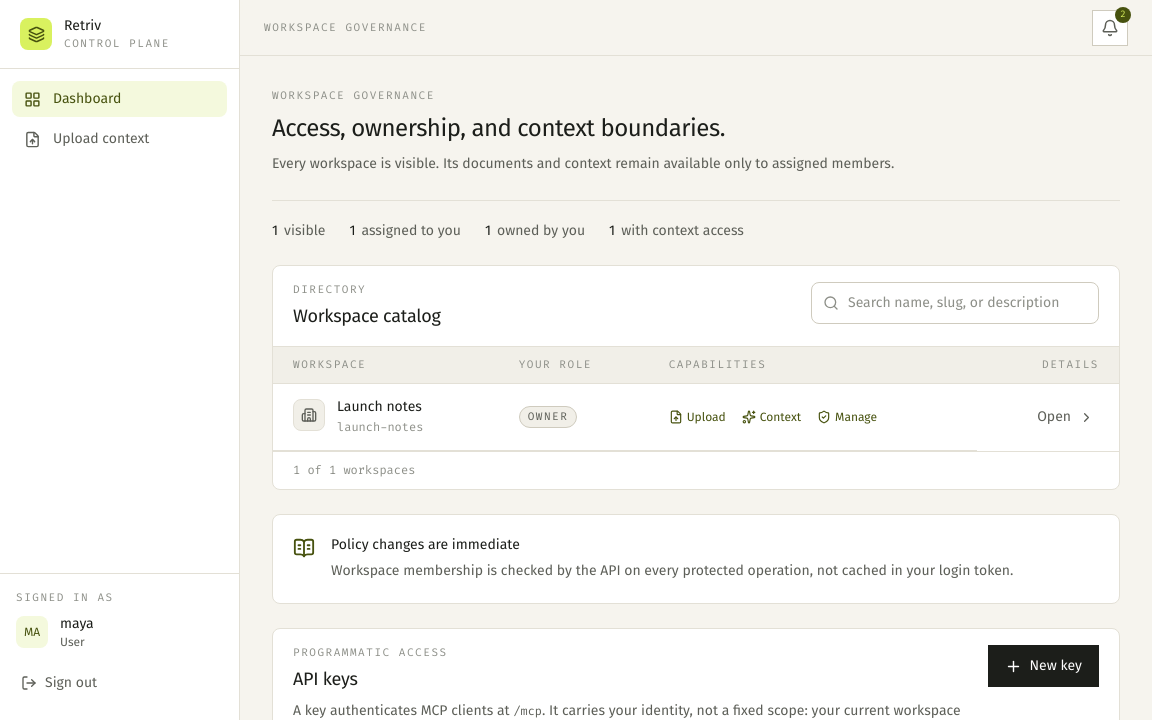
Scenario: dashboard application › shows the active process and recent workspace activity in notifications
expect the heading "Access, ownership, and context boundaries." is shown: met, box [272,114,725,142]
Click the button named "Open processing notifications, 2 recent runs". click: point(1110, 28)
box: [1092,10,1128,46]
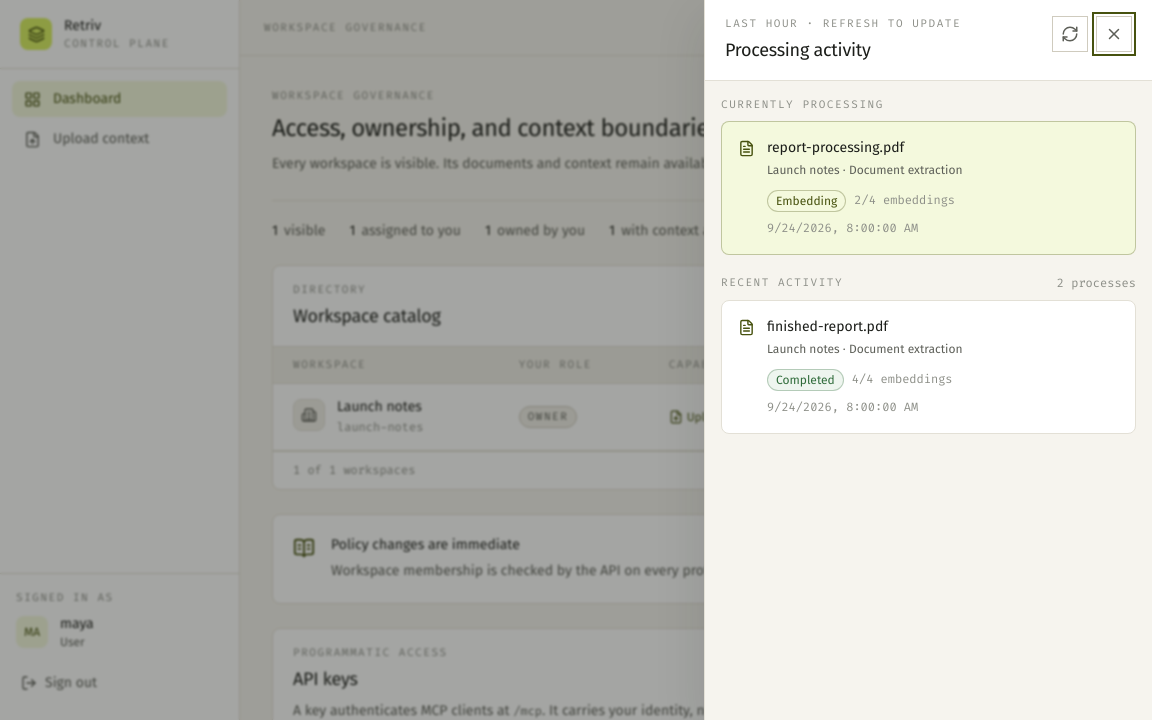
expect the dialog named "Processing notifications" is shown: met, box [704,0,1151,719]
expect the heading "Currently processing" is shown: met, box [721,97,884,112]
expect the heading "Recent activity" is shown: met, box [721,275,843,291]
